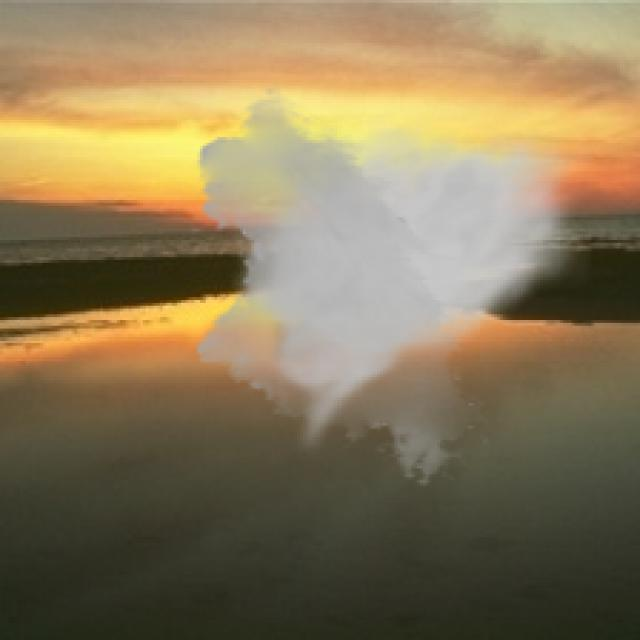smoke: (186, 86, 591, 488)
